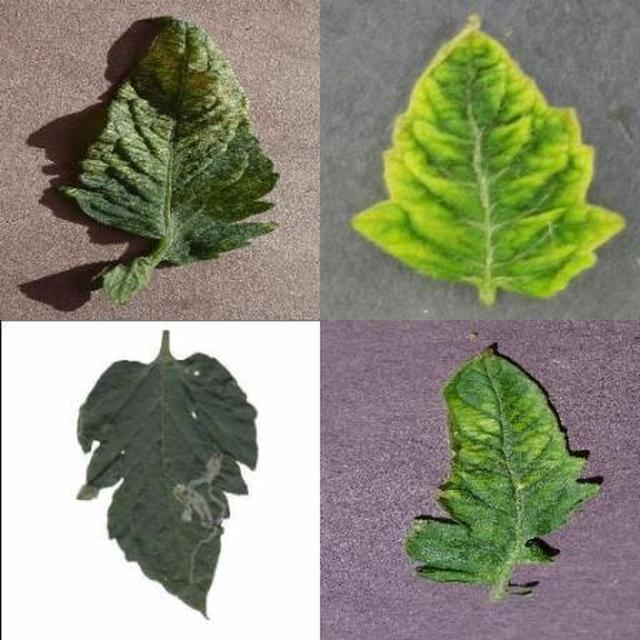Spider Mites Leaf: (236, 202, 640, 640)
